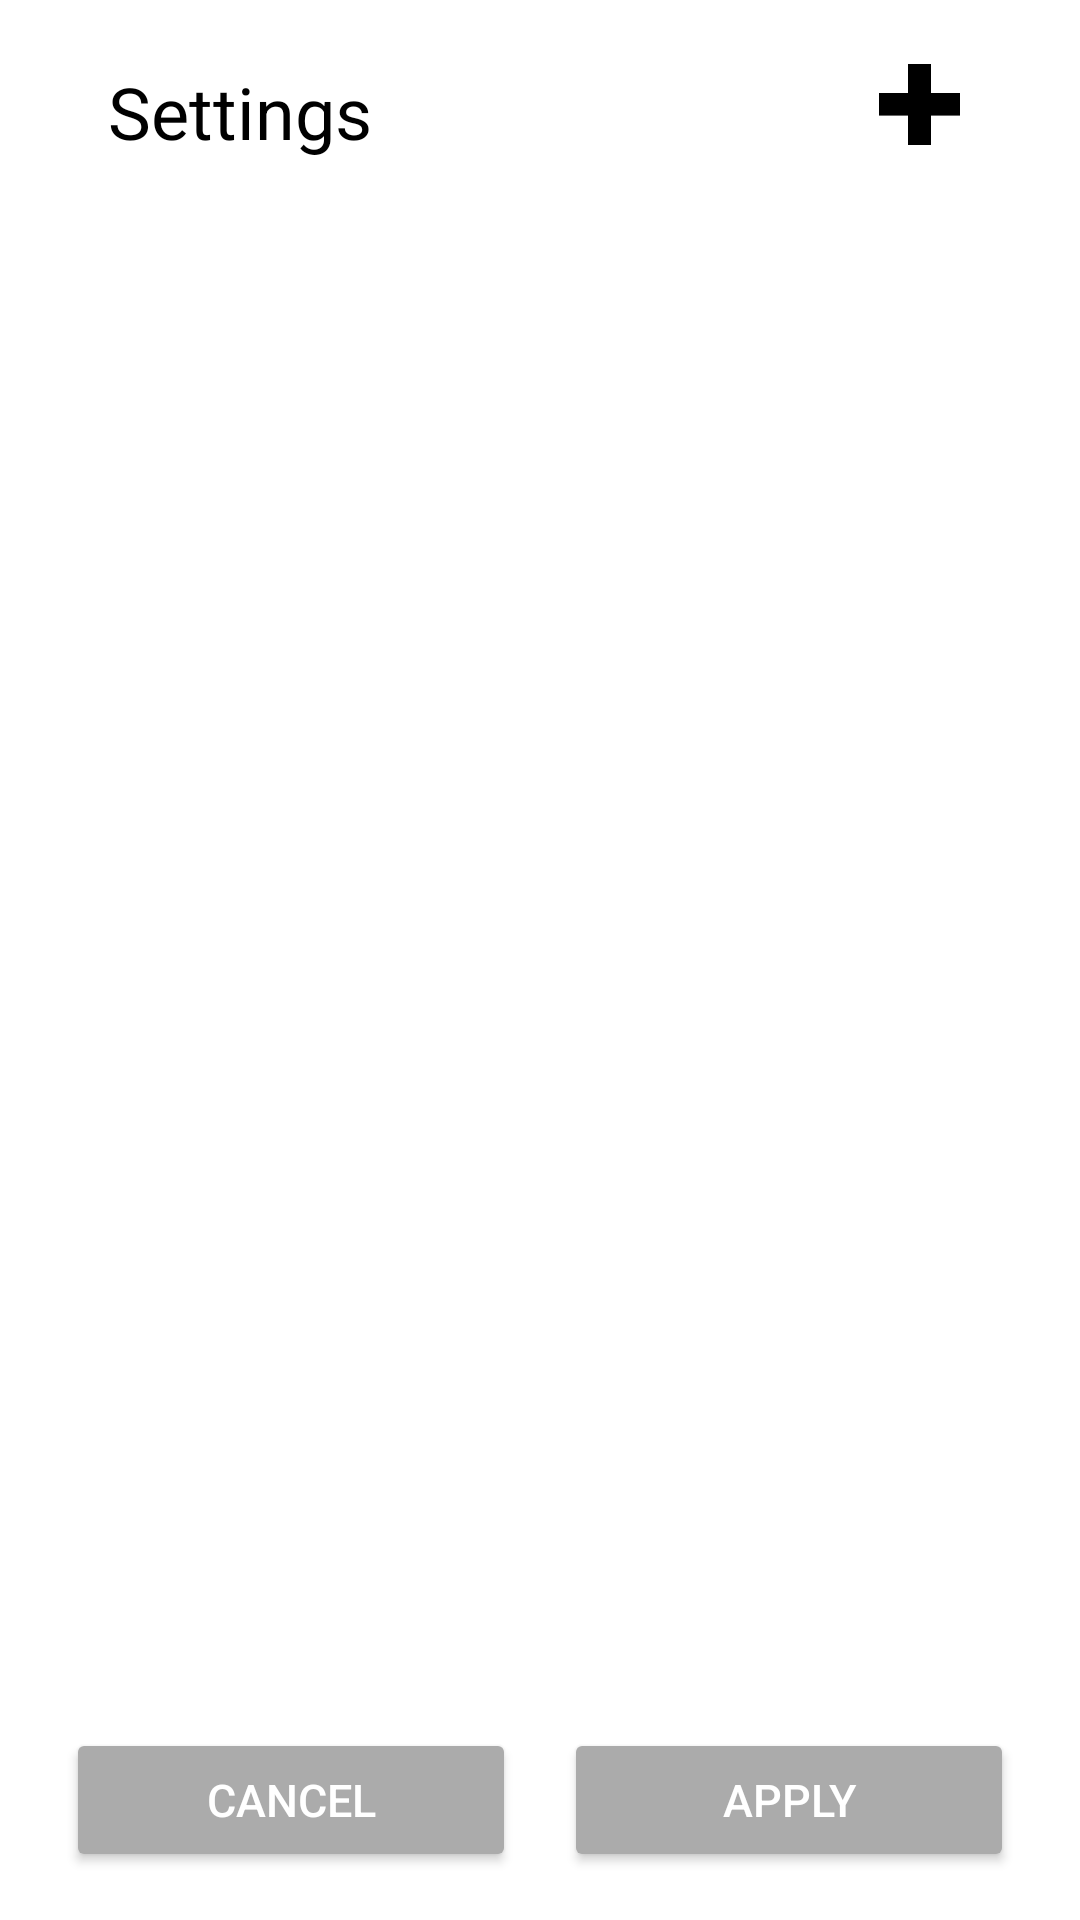

Icon bounding boxes for this 1080×1920 phone screenshot, format (x1, y1, x2, y2):
Add: (879, 64, 960, 145)
